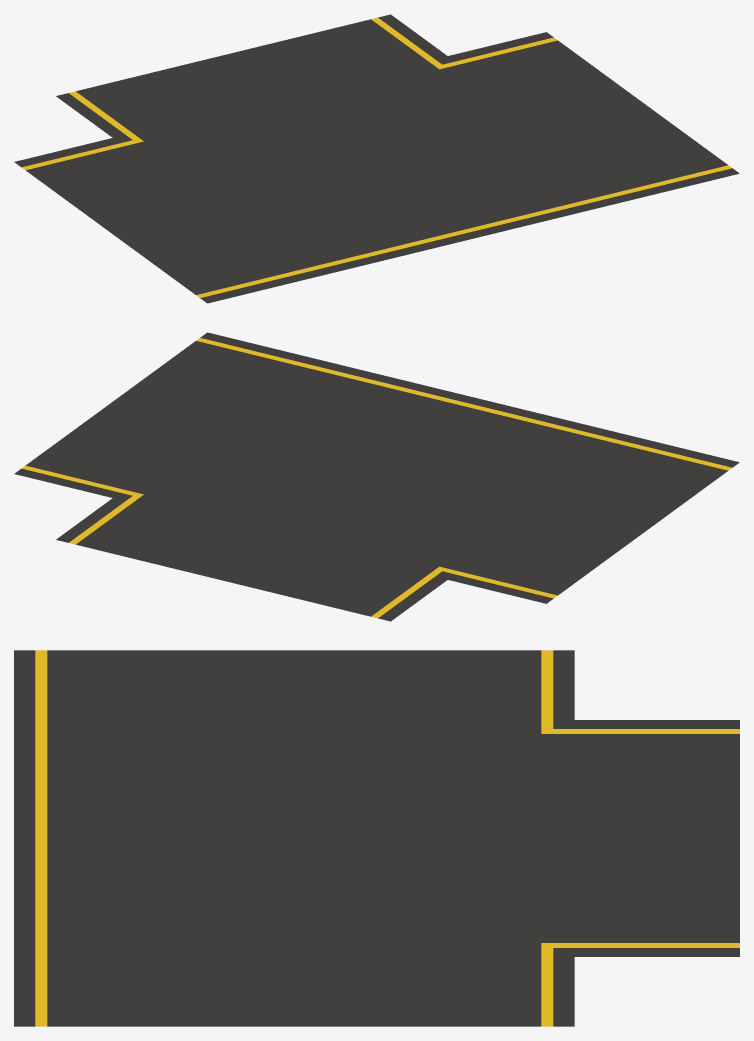
The model's file is three-way intersection.fbx.
3 renders of one model, top to bottom at view 1: azimuth 30°, elevation 25°; view 2: azimuth 150°, elevation 25°; view 3: azimuth 270°, elevation 25°, orthographic. The views are drawn at different scales.
Visible parts, largest first — view 1: Object026; view 2: Object026; view 3: Object026.
Boxes of the visible parts, x1,y1,x2,y2 form: Object026: (14, 14, 739, 303); Object026: (14, 332, 739, 621); Object026: (14, 650, 739, 1026).
Size of the model in its own units: 814 by 0.000176 by 663.
